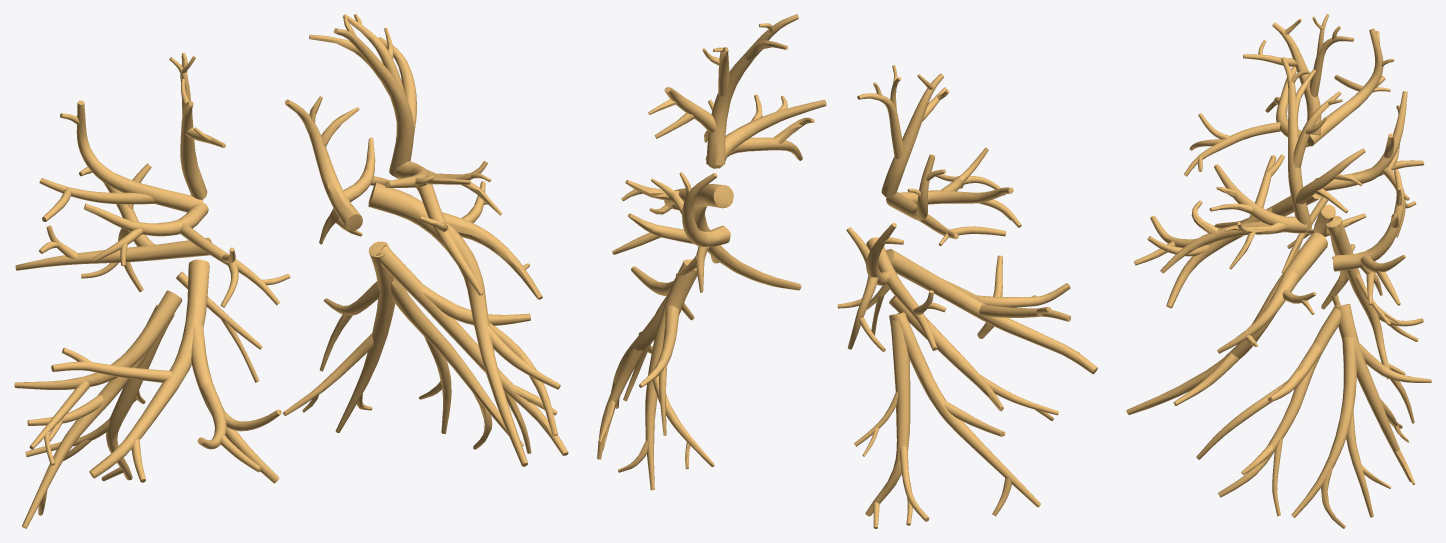
The model's file is arvore-bronquica.glb.
The picture shows the model from 3 angles, left to right: view 1: azimuth 30°, elevation 25°; view 2: azimuth 150°, elevation 25°; view 3: azimuth 270°, elevation 25°; orthographic projection. The views are drawn at different scales.
Parts seen in each view (by area): view 1: arvore-bronquica; view 2: arvore-bronquica; view 3: arvore-bronquica.
Boxes of the visible parts, x1,y1,x2,y2 form: arvore-bronquica: (14,14,568,528); arvore-bronquica: (597,14,1097,528); arvore-bronquica: (1126,14,1431,528).
Bounding box in the file's own units: 0.2394 × 0.2283 × 0.1575.
